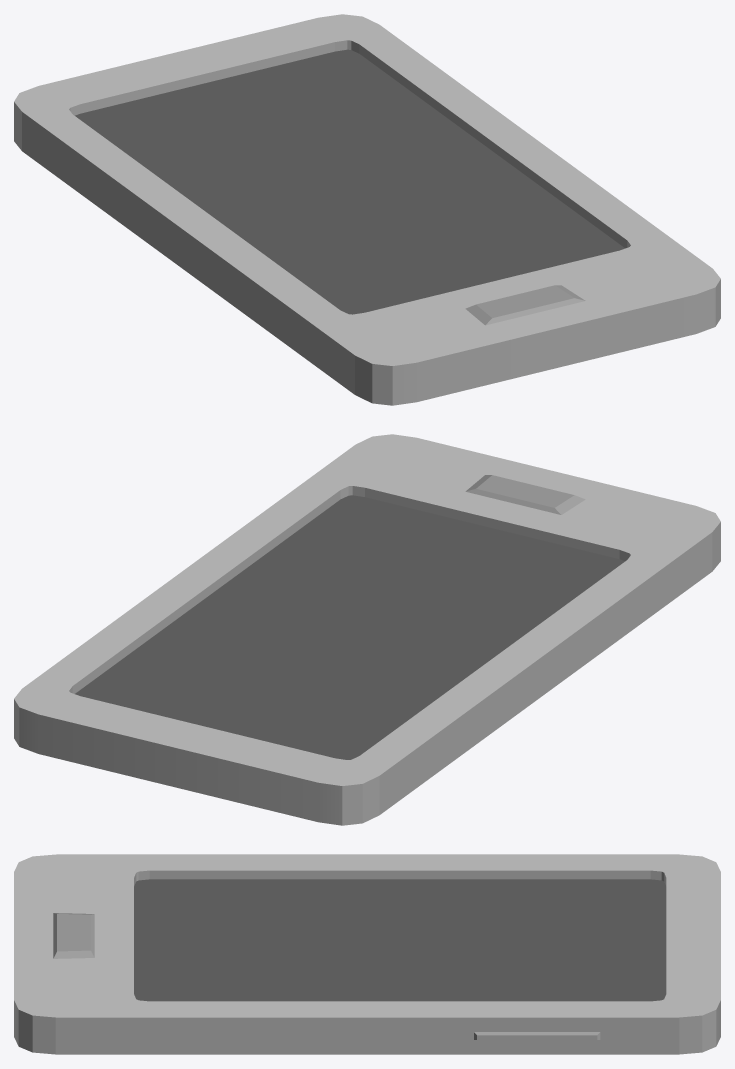
Rendered from Telemóvel.FBX.
The picture shows the model from 3 angles, top to bottom: view 1: azimuth 30°, elevation 25°; view 2: azimuth 150°, elevation 25°; view 3: azimuth 270°, elevation 25°; orthographic projection. The views are drawn at different scales.
Parts seen in each view (by area): view 1: Box010; view 2: Box010; view 3: Box010.
Part boxes in pixels (box(x1,y1,x2,y2)): Box010: box(14, 14, 720, 405); Box010: box(14, 434, 720, 825); Box010: box(14, 854, 720, 1054).
Bounding box in the file's own units: 41.17 × 4.7 × 74.68.
